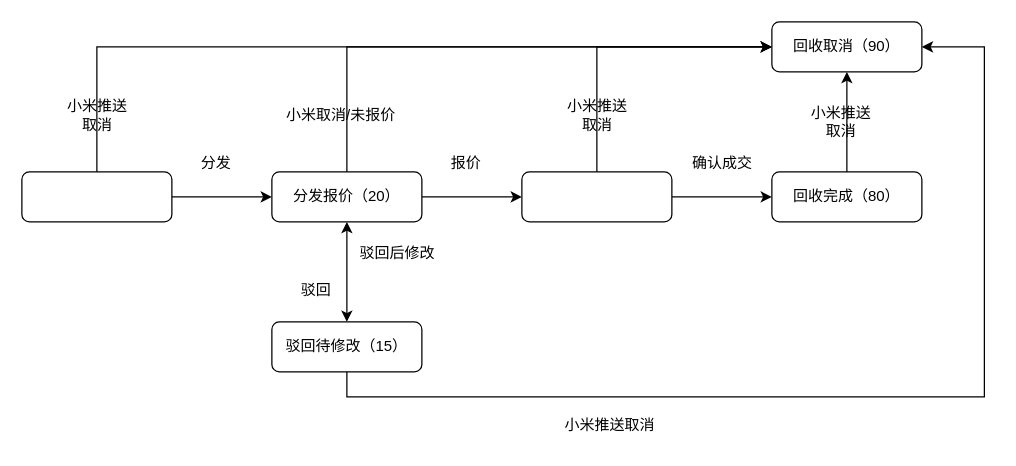
The diagram is 1016 pixels wide and 466 high, and some of its shapes have lost their labels. Here are the shapes that lost their labels. From the top down, the centre of each, then its label:
the point at 96,196: 创建订单（10）
the point at 596,196: 确认回收（30）
